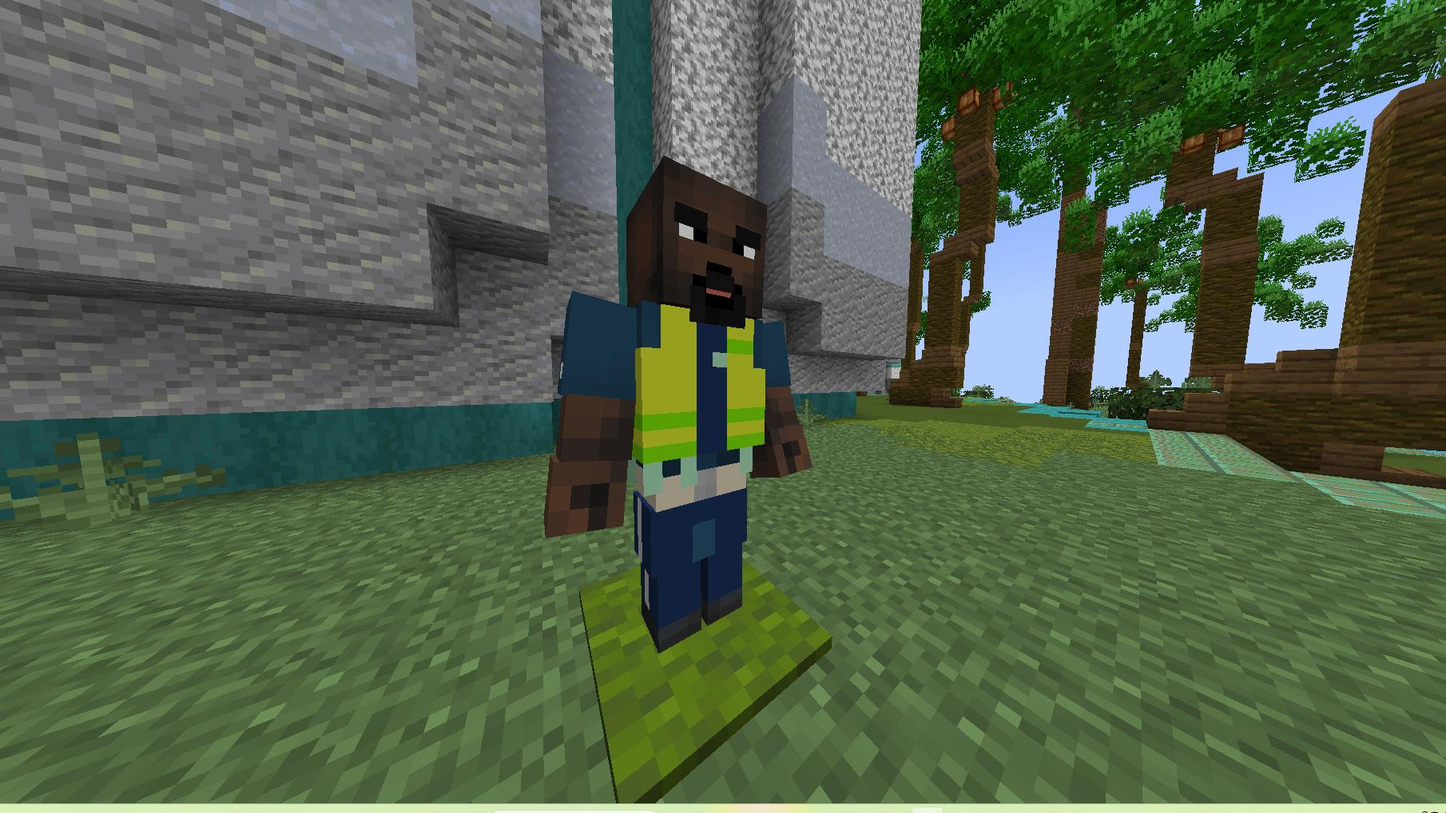Guardian: (546, 157, 811, 652)
